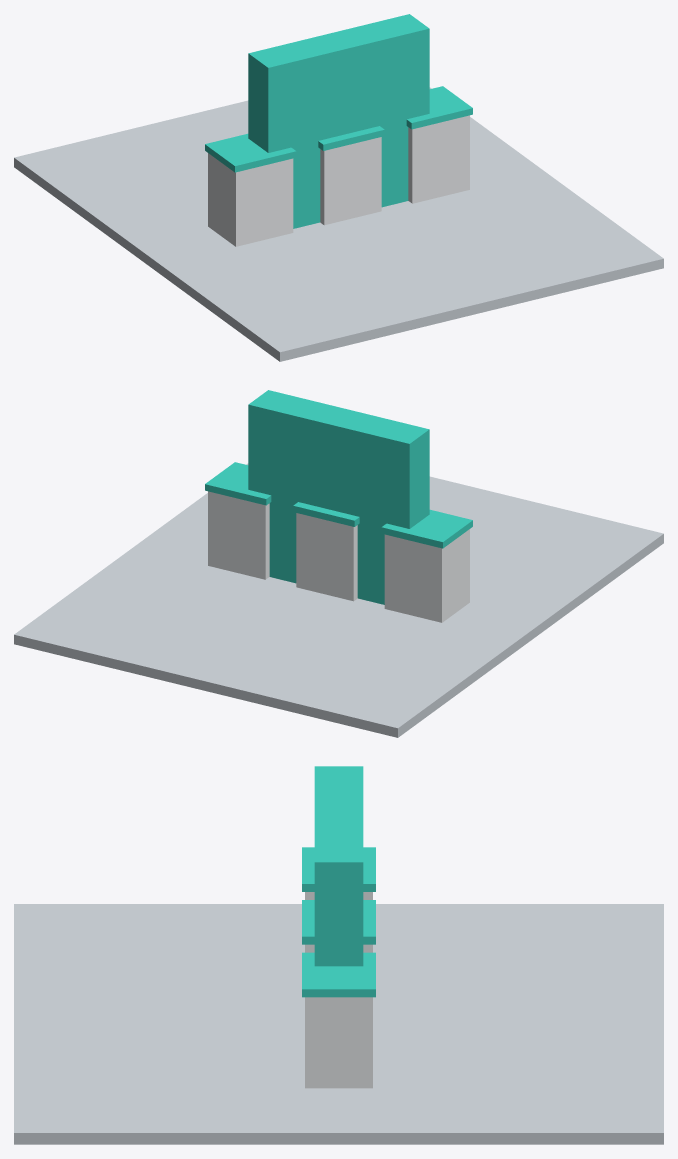
3 renders of one model, top to bottom at view 1: azimuth 30°, elevation 25°; view 2: azimuth 150°, elevation 25°; view 3: azimuth 270°, elevation 25°, orthographic. The views are drawn at different scales.
Parts seen in each view (by area): view 1: Exhibition Booth Concept; view 2: Exhibition Booth Concept; view 3: Exhibition Booth Concept.
Boxes of the visible parts, x1=… form: Exhibition Booth Concept: x1=14, y1=14, x2=663, y2=361; Exhibition Booth Concept: x1=14, y1=390, x2=663, y2=737; Exhibition Booth Concept: x1=14, y1=766, x2=663, y2=1144.
Size of the model in its own units: 5 by 2.2 by 6.
